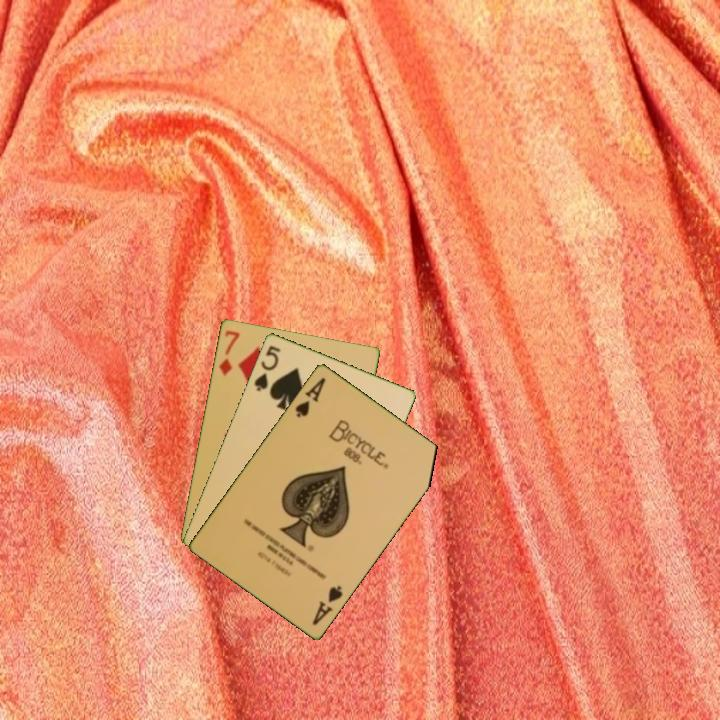5s: (250, 341, 283, 394)
7d: (215, 326, 242, 378)
As: (291, 374, 329, 420), (308, 582, 345, 628)
